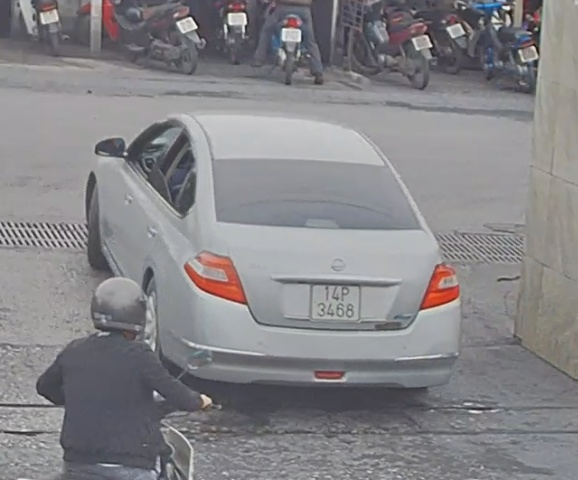vehicle plate: (308, 281, 363, 319)
